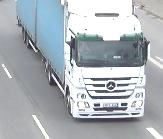truck: (16, 0, 150, 120)
